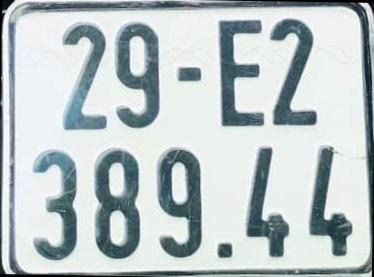-: (175, 63, 203, 85)
.: (216, 243, 231, 260)
2: (59, 21, 110, 133), (269, 15, 320, 127)
3: (29, 148, 81, 261)
4: (309, 142, 356, 259), (246, 144, 292, 259)
8: (92, 146, 143, 259)
9: (155, 146, 206, 259), (114, 23, 164, 127)
E: (217, 17, 268, 127)
